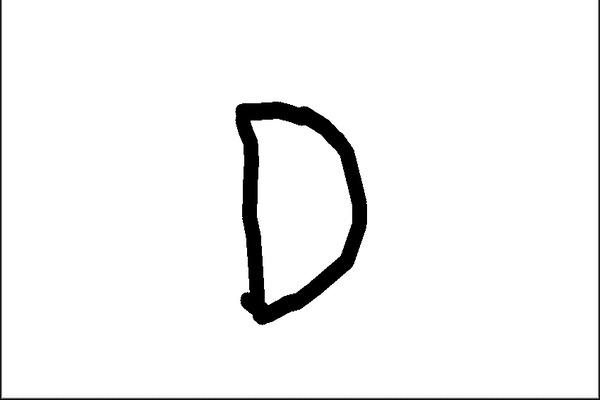D: (228, 93, 376, 326)
